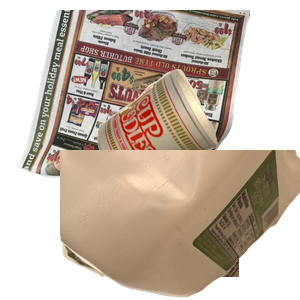glass: (60, 120, 300, 300)
paper: (14, 10, 254, 190)
plastic: (60, 150, 300, 300)
trash: (95, 67, 300, 238)
